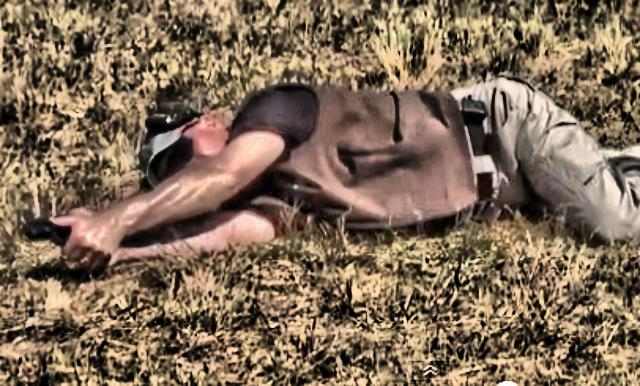pistol: (24, 198, 100, 260)
